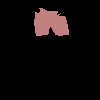shorts: (34, 8, 68, 36)
